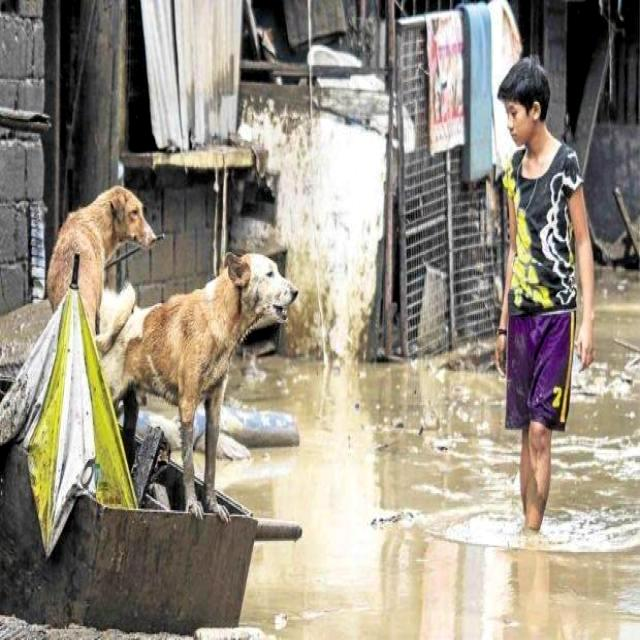civilian: (472, 41, 618, 548)
dog: (123, 223, 298, 528), (11, 165, 185, 321)
